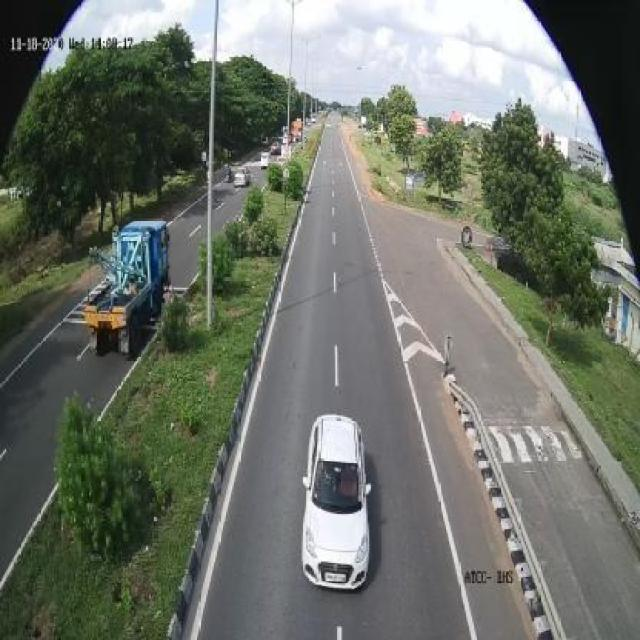car: (303, 409, 375, 597)
